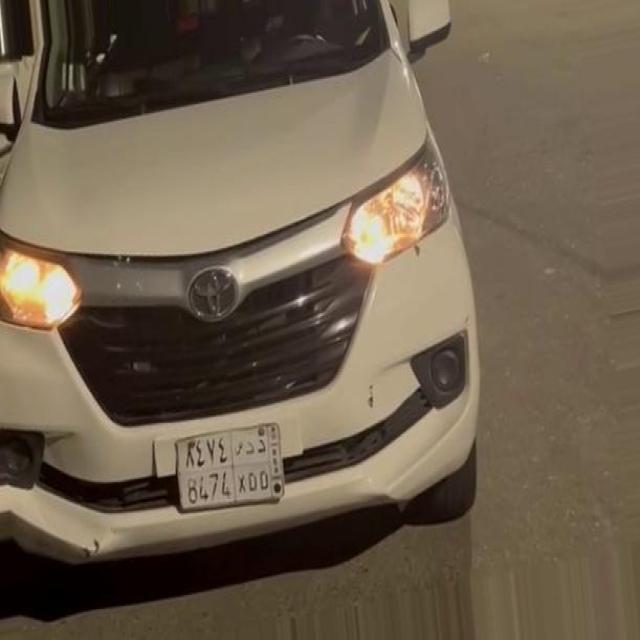Car-plate: (169, 404, 289, 523)
